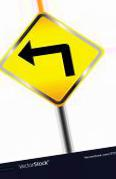left: (1, 11, 103, 108)
